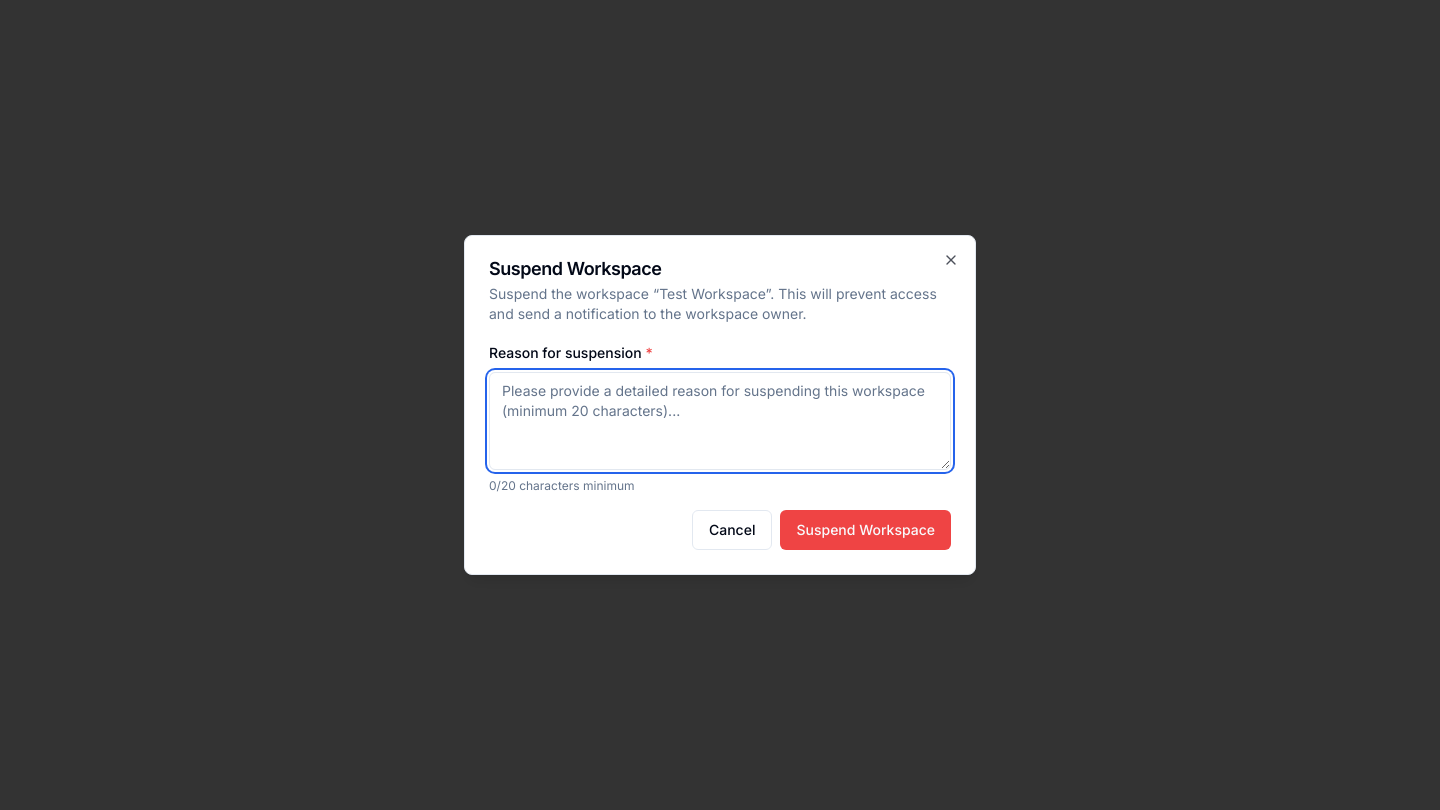
it: SuspendWorkspaceModal › should reset form when cancel is clicked
Step 1. Type "Some reason text" into the text box labelled "Reason for suspension *" → (720, 421), box [489, 372, 951, 470]
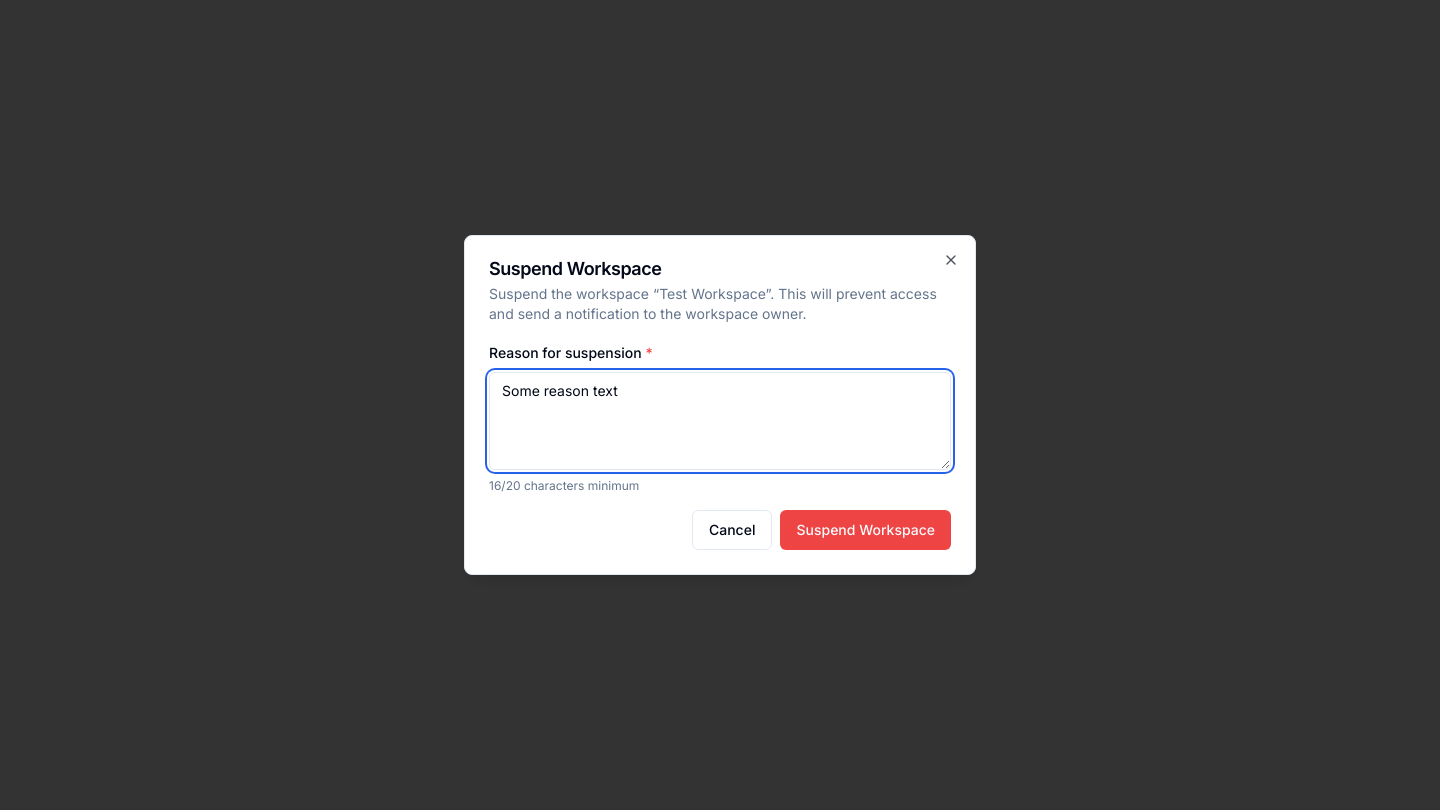
Step 2. Click the button "Cancel" → (732, 530), box [692, 510, 772, 550]
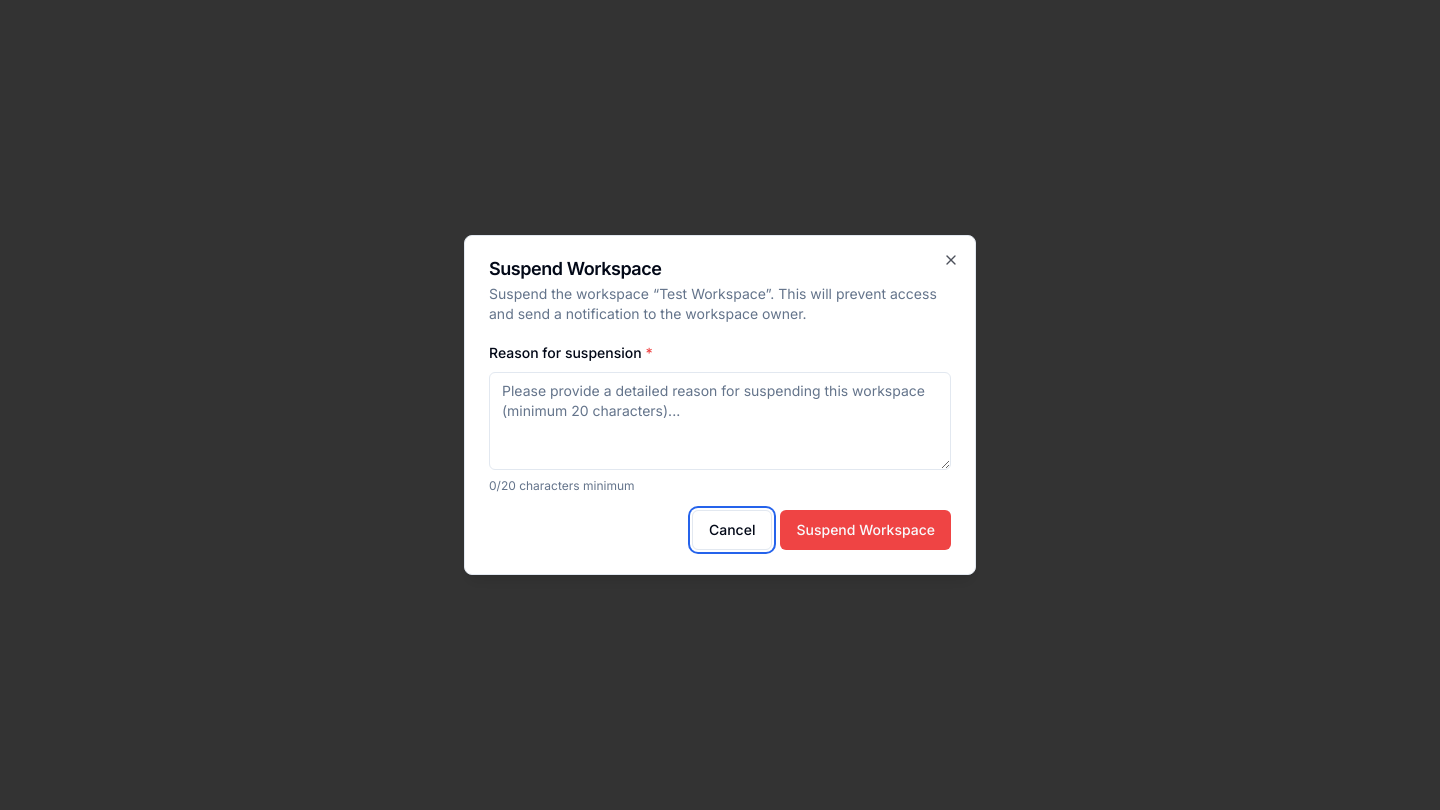
Now the text box labelled "Reason for suspension *" is empty, box [489, 372, 951, 470]
